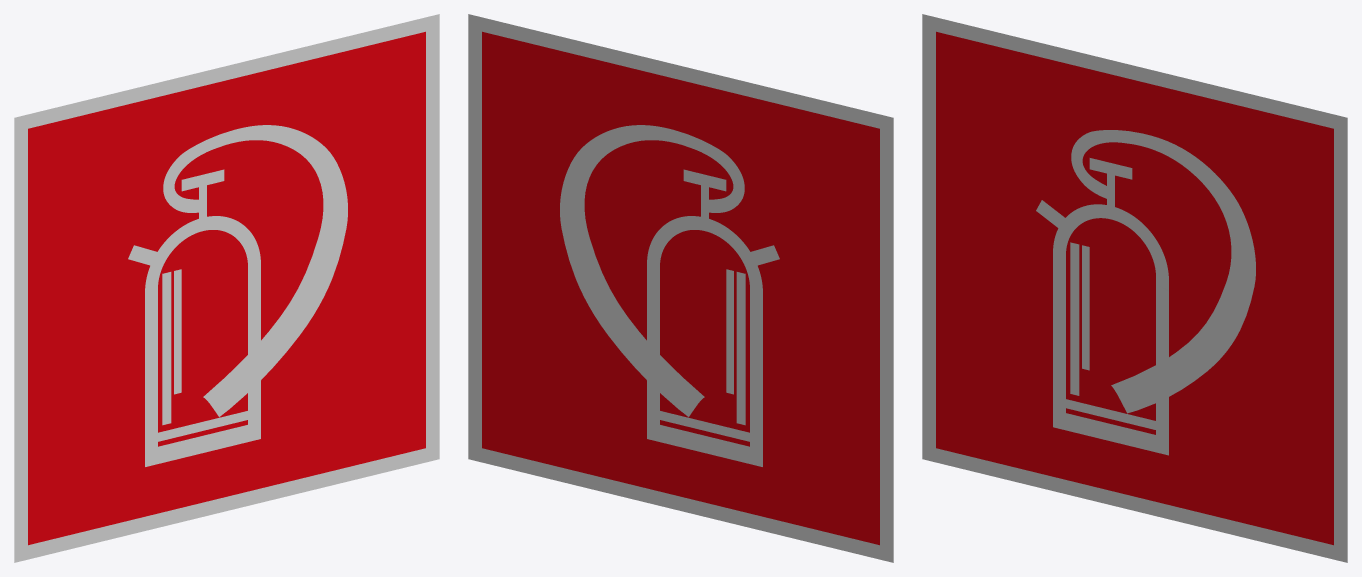
The model's file is extinguisher-information-sign.glb.
The picture shows the model from 3 angles, left to right: view 1: azimuth 30°, elevation 25°; view 2: azimuth 150°, elevation 25°; view 3: azimuth 330°, elevation 25°; orthographic projection.
Parts seen in each view (by area): view 1: Fire-Extinguisher-Information-Sign.002_0; view 2: Fire-Extinguisher-Information-Sign.002_0; view 3: Fire-Extinguisher-Information-Sign.002_0.
Boxes of the visible parts, bbox=[...] form: Fire-Extinguisher-Information-Sign.002_0: bbox=[14, 14, 439, 562]; Fire-Extinguisher-Information-Sign.002_0: bbox=[468, 14, 893, 562]; Fire-Extinguisher-Information-Sign.002_0: bbox=[922, 14, 1347, 562].
Bounding box in the file's own units: 0.4017 × 0.4017 × 3.62e-06.
